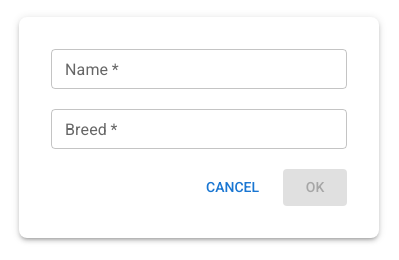
Test: PetForm › validation › enables OK when inputs are filled
This screenshot has width=399, height=260.
Type "Fido" into the field labelled "Name *".
click(199, 69); type("Fido")  # box [51,49,347,89]
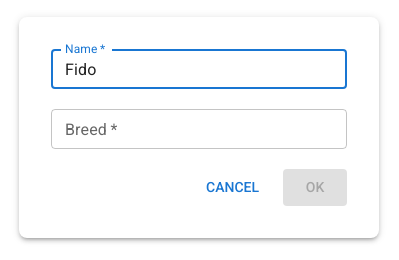
Type "Beagle" into the field labelled "Breed *".
click(199, 129); type("Beagle")  # box [51,109,347,149]
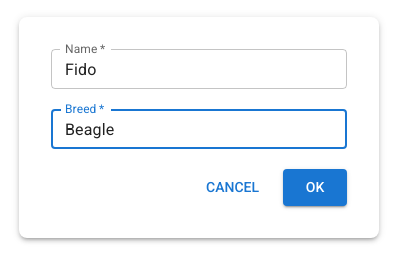
expect the button "OK" is enabled: met, box [283,169,347,206]
